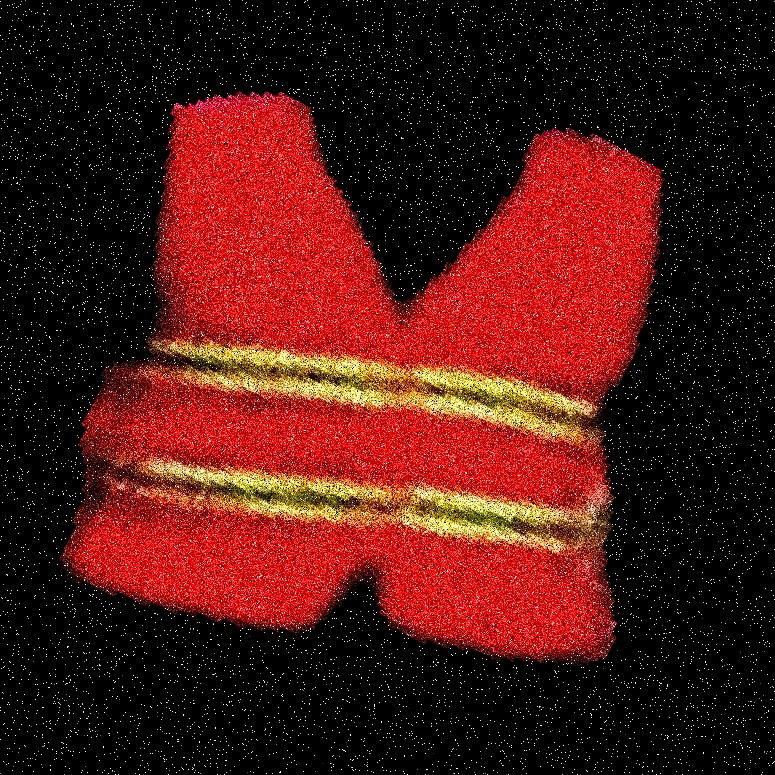Colete: (236, 0, 572, 774)
